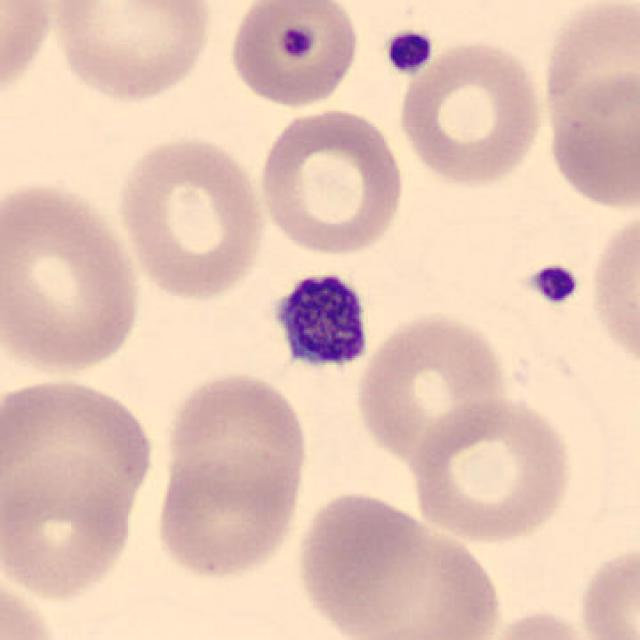Platelets: (265, 268, 375, 381), (262, 18, 330, 68), (380, 27, 436, 78), (526, 259, 583, 307)
RBC: (149, 365, 313, 587), (290, 490, 510, 640), (0, 173, 148, 381), (114, 130, 268, 305), (0, 372, 160, 536), (405, 393, 576, 545), (352, 308, 512, 462), (254, 104, 409, 259), (395, 37, 549, 189), (535, 0, 638, 212), (0, 450, 142, 603), (46, 0, 217, 108), (224, 0, 364, 111), (587, 203, 638, 379), (0, 0, 59, 115), (574, 537, 638, 640), (462, 604, 613, 640), (0, 567, 62, 640)
